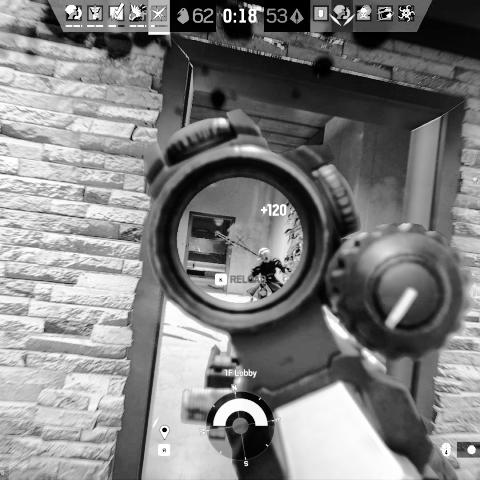Character: (245, 248, 291, 304)
Friend_label: (461, 176, 480, 193), (462, 255, 480, 272)
Head: (259, 248, 271, 262)
